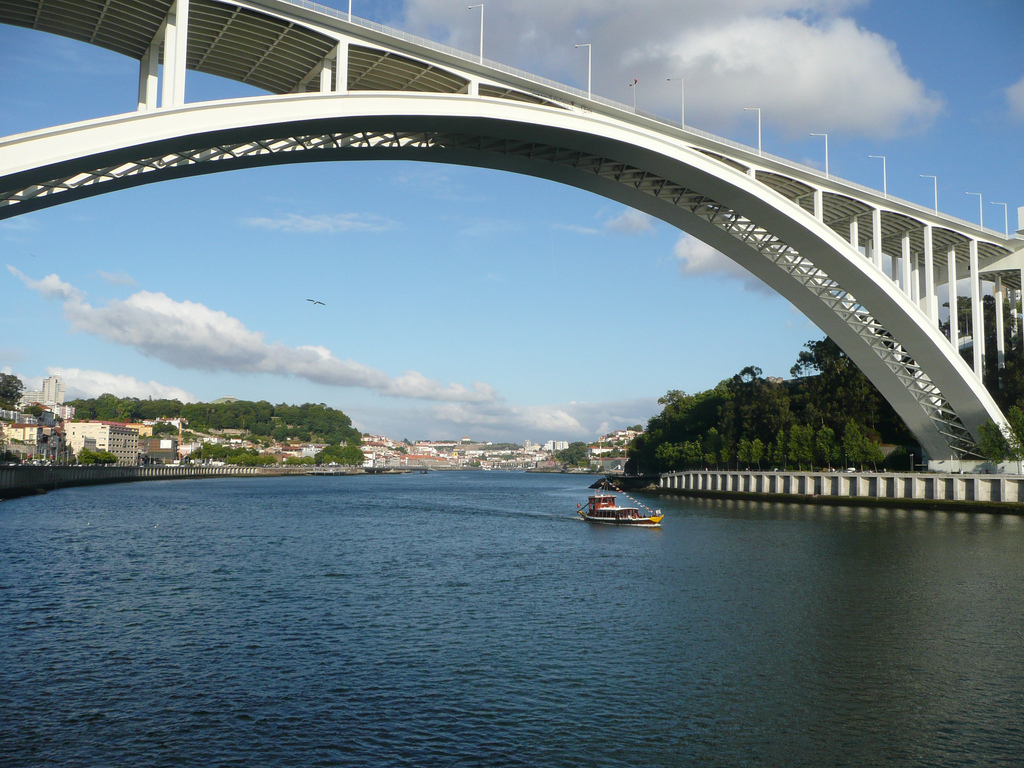arrabida: (0, 0, 1023, 475)
